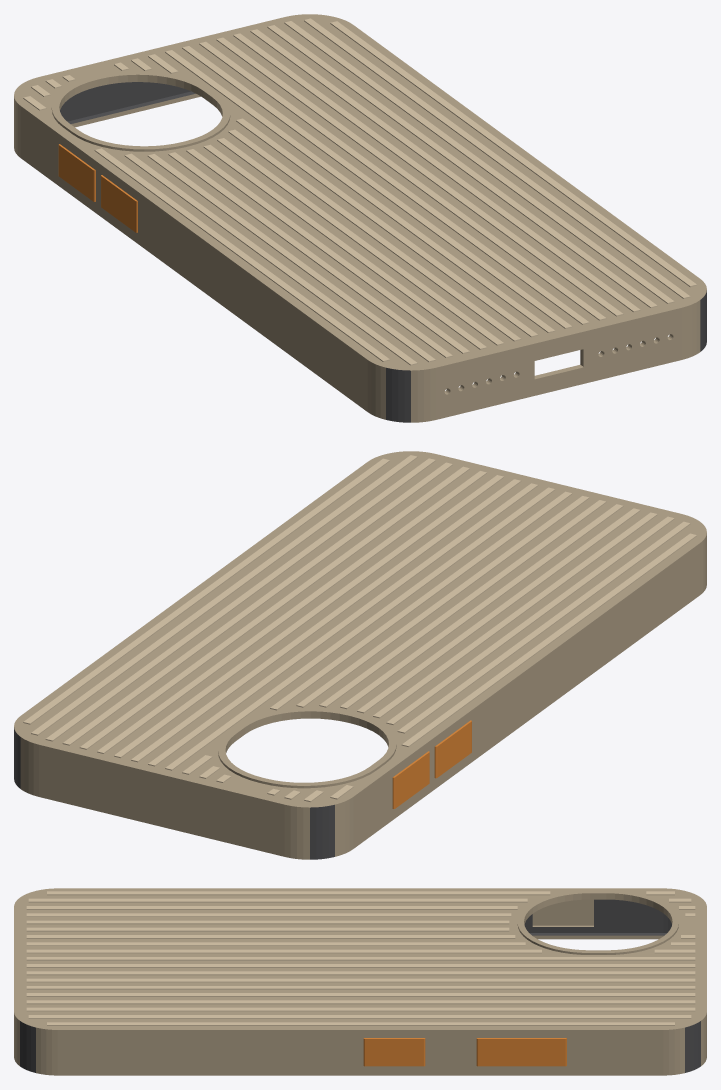
The model's file is kilif-rugged-serit-kum.glb.
The picture shows the model from 3 angles, top to bottom: view 1: azimuth 30°, elevation 25°; view 2: azimuth 150°, elevation 25°; view 3: azimuth 270°, elevation 25°; orthographic projection. The views are drawn at different scales.
Visible parts, largest first — view 1: Kilif; view 2: Kilif; view 3: Kilif.
Part boxes in pixels (x1,y1,x2,y2): Kilif: (14,14,706,422); Kilif: (14,451,706,859); Kilif: (14,888,706,1075).
Bounding box in the file's own units: 0.0828 × 0.0129 × 0.1694.
